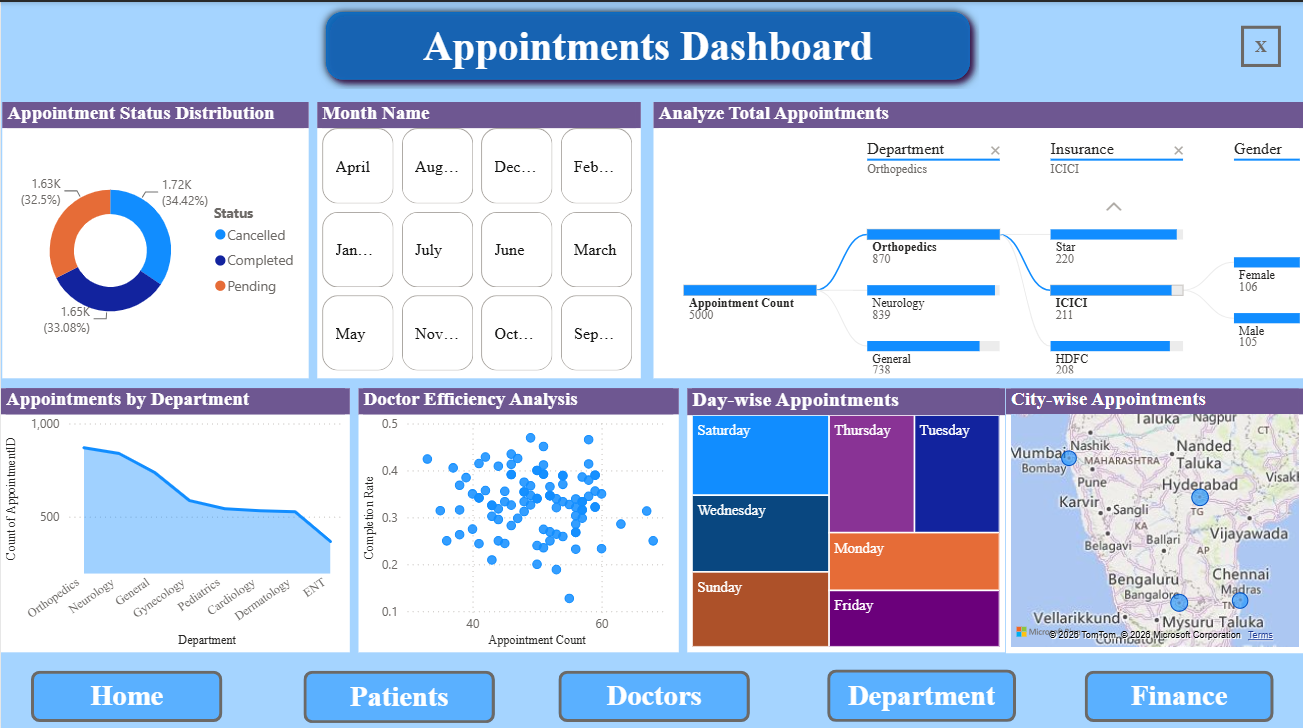

This screenshot's page, from the dashboard's own definition file:
{"tool":"powerbi","page":{"name":"Appointment Dashboard","canvas":[1280,720],"ordinal":4},"visuals":[{"type":"shape","box":[309.2,0,651.5,85.9],"z":0},{"type":"donutChart","title":"Appointment Status Distribution ","fields":{"Category":["Appointments.Status"],"Y":["CountNonNull(Appointments.AppointmentID)"]},"box":[1.2,98.2,300.6,271.2],"z":1000},{"type":"stackedAreaChart","title":"Appointments by Department","fields":{"Category":["Appointments.Department"],"Y":["CountNonNull(Appointments.AppointmentID)"]},"box":[0,379.1,342.3,258.9],"z":2000},{"type":"treemap","title":"Day-wise Appointments","fields":{"Group":["Appointments.Day Name"],"Values":["CountNonNull(Appointments.AppointmentID)"]},"box":[673.6,379.1,311.7,258.9],"z":3000},{"type":"decompositionTreeVisual","title":"Analyze Total Appointments","fields":{"Analyze":["Appointments.Appointment Count"],"ExplainBy":["Appointments.Department","Patients.Insurance","Patients.Gender"]},"box":[640.5,98.2,639.3,271.2],"z":4000},{"type":"scatterChart","title":"Doctor Efficiency Analysis","fields":{"X":["Appointments.Appointment Count"],"Y":["Appointments.Completion Rate"],"Category":["Doctors.DoctorID"]},"box":[350.9,379.1,314.1,258.9],"z":5000},{"type":"advancedSlicerVisual","fields":{"Values":["Appointments.Month Name"]},"box":[310.4,98.2,317.8,271.2],"z":6000},{"type":"map","title":"City-wise Appointments","fields":{"Category":["Branches.City"],"Size":["Appointments.Appointment Count"]},"box":[986.5,379.1,292,258.9],"z":7000},{"type":"actionButton","box":[29.4,656.4,187.7,50.3],"z":8000},{"type":"actionButton","box":[296.3,656.7,187.8,51.5],"z":9000},{"type":"actionButton","box":[547.2,656.4,187.7,50.3],"z":10000},{"type":"actionButton","box":[811,655.2,185.3,51.5],"z":11000},{"type":"actionButton","box":[1063.8,656.4,185.3,50.3],"z":12000},{"type":"actionButton","box":[1217.2,23.3,39.3,40.5],"z":13000}]}

Visuals, with their boxes in screenshot pixels (x1, y1, x2, y2), scaled from the page's 1280x720 canvas onto the 1303x728 screenshot:
shape: box=[315, 0, 978, 87]
"Appointment Status Distribution " donutChart: box=[1, 99, 307, 374]
"Appointments by Department" stackedAreaChart: box=[0, 383, 348, 645]
"Day-wise Appointments" treemap: box=[686, 383, 1003, 645]
"Analyze Total Appointments" decompositionTreeVisual: box=[652, 99, 1302, 374]
"Doctor Efficiency Analysis" scatterChart: box=[357, 383, 677, 645]
advancedSlicerVisual - Appointments.Month Name: box=[316, 99, 639, 374]
"City-wise Appointments" map: box=[1004, 383, 1301, 645]
actionButton: box=[30, 664, 221, 715]
actionButton: box=[302, 664, 493, 716]
actionButton: box=[557, 664, 748, 715]
actionButton: box=[826, 662, 1014, 715]
actionButton: box=[1083, 664, 1272, 715]
actionButton: box=[1239, 24, 1279, 65]
